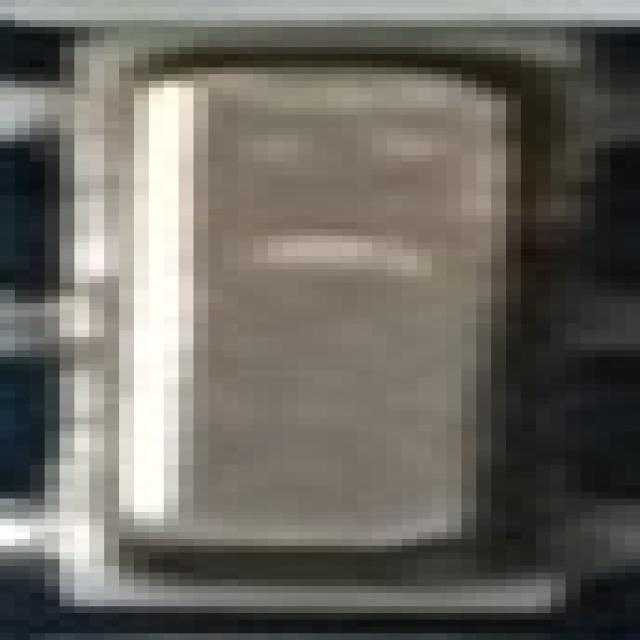clock Q1: (73, 48, 589, 612)
